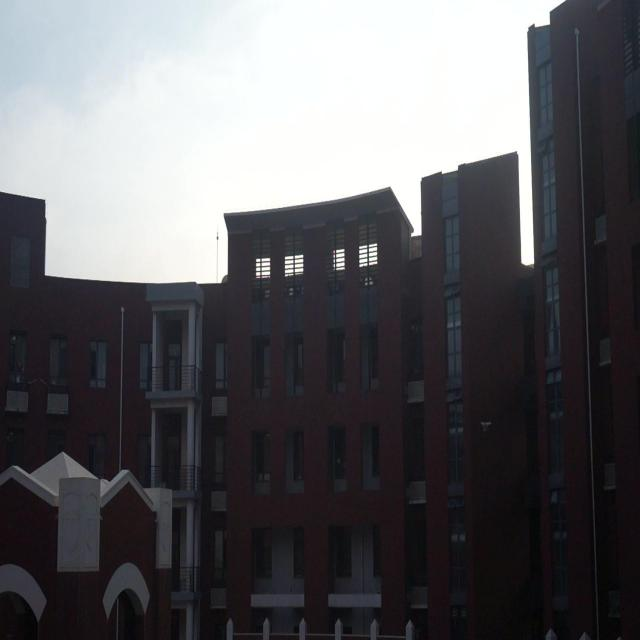UAV: (480, 422, 492, 432)
